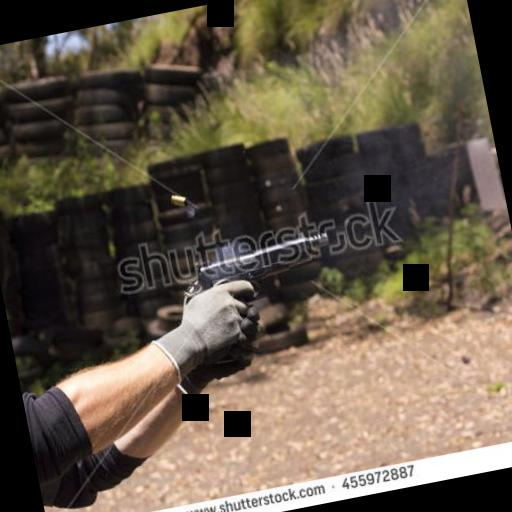Handgun: (184, 228, 346, 366)
